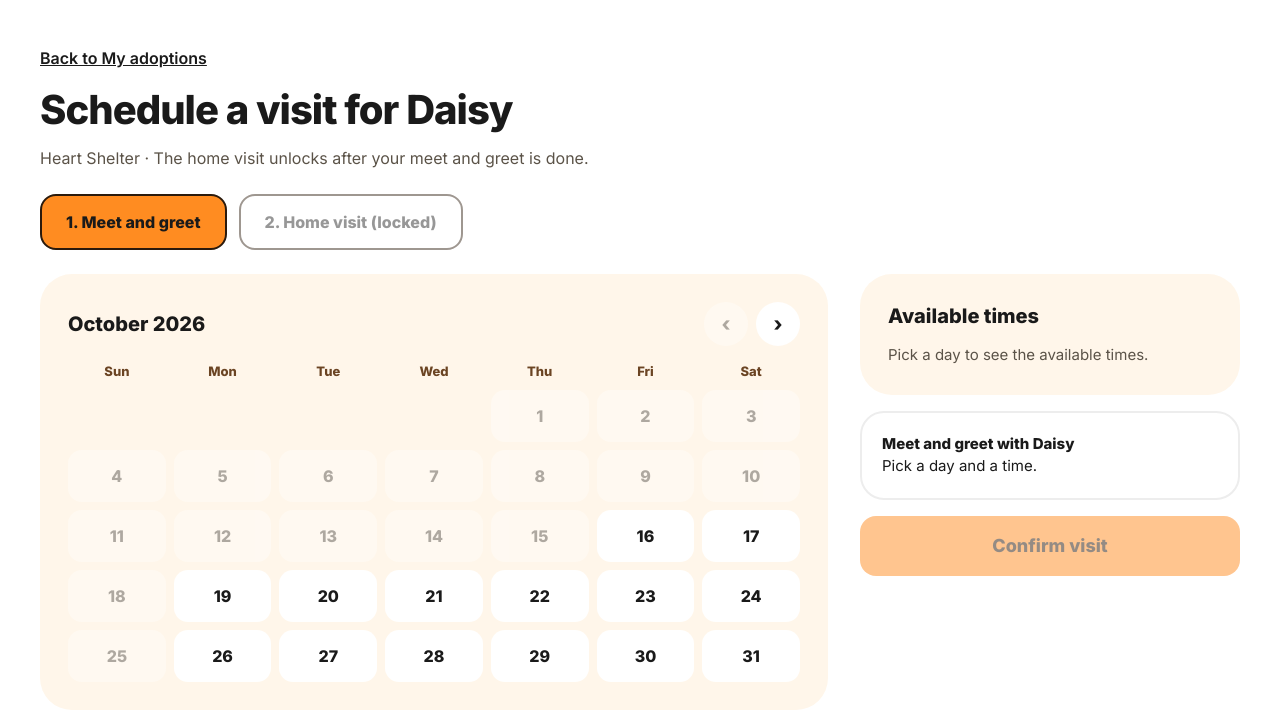
Test: ScheduleVisit › disables a time that someone else already booked
This screenshot has width=1280, height=720.
Click the button named "Monday, October 19" at x=223, y=596, box top-left (174, 570), bottom-right (271, 622)
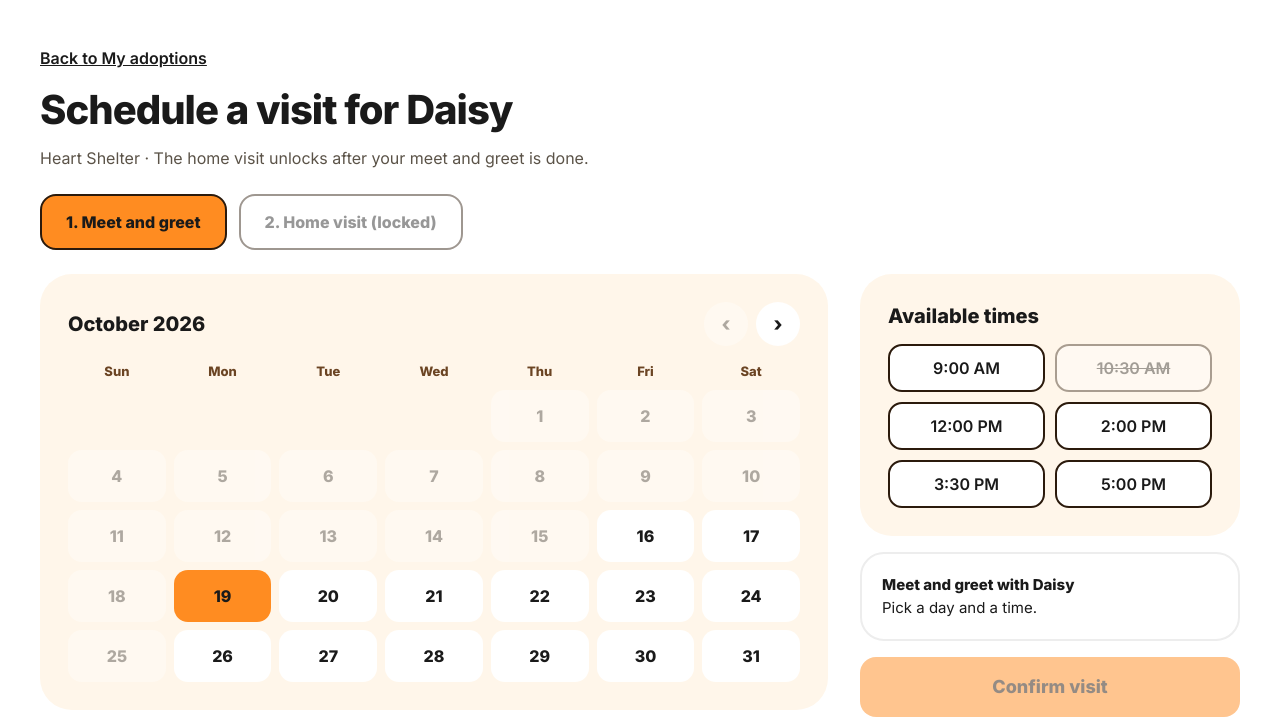
Expected: the button "10:30 AM" is disabled, top-left (1055, 344), bottom-right (1212, 392)
Expected: the button "12:00 PM" is enabled, top-left (888, 402), bottom-right (1045, 450)
